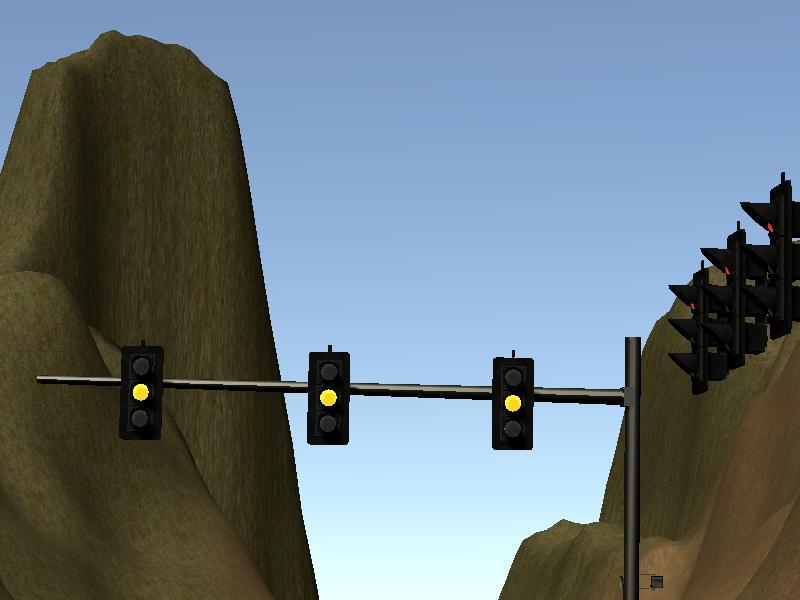Yellow: (308, 350, 350, 444), (492, 354, 533, 449), (122, 345, 161, 439)
